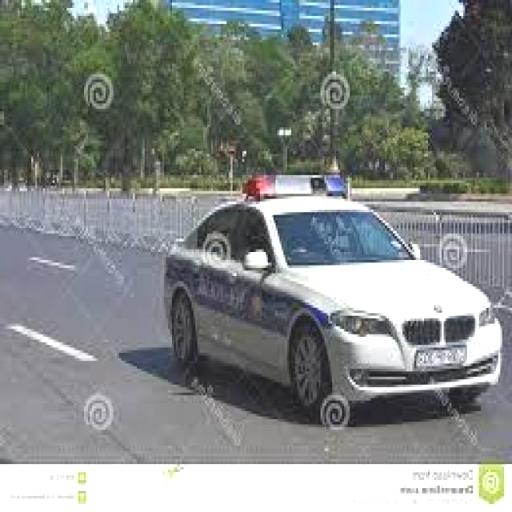Ambulance: (162, 175, 494, 414)
